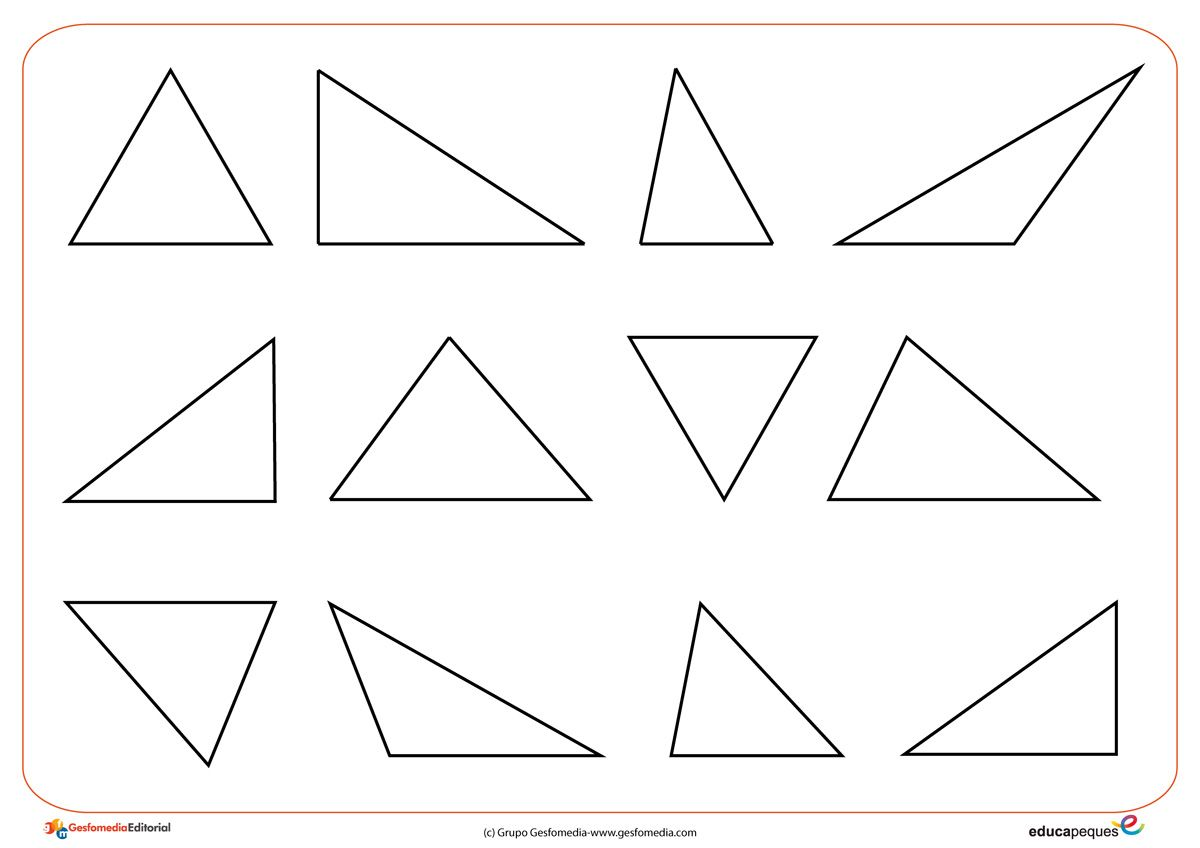triangulo: (330, 337, 594, 503), (67, 66, 274, 247), (626, 336, 817, 504), (640, 68, 775, 248)
